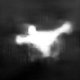plane: (13, 21, 75, 61)
